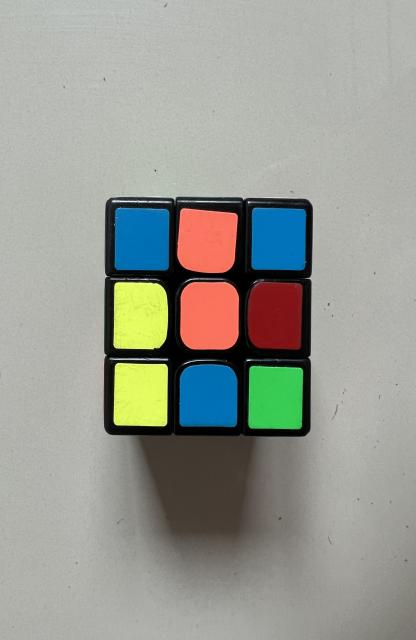Blue: (180, 364, 237, 428), (251, 208, 307, 270), (115, 208, 169, 271)
Green: (248, 366, 303, 430)
Orange: (180, 282, 239, 350), (178, 209, 238, 272)
Red: (248, 282, 302, 350)
Yellow: (113, 282, 168, 350), (114, 362, 168, 426)
